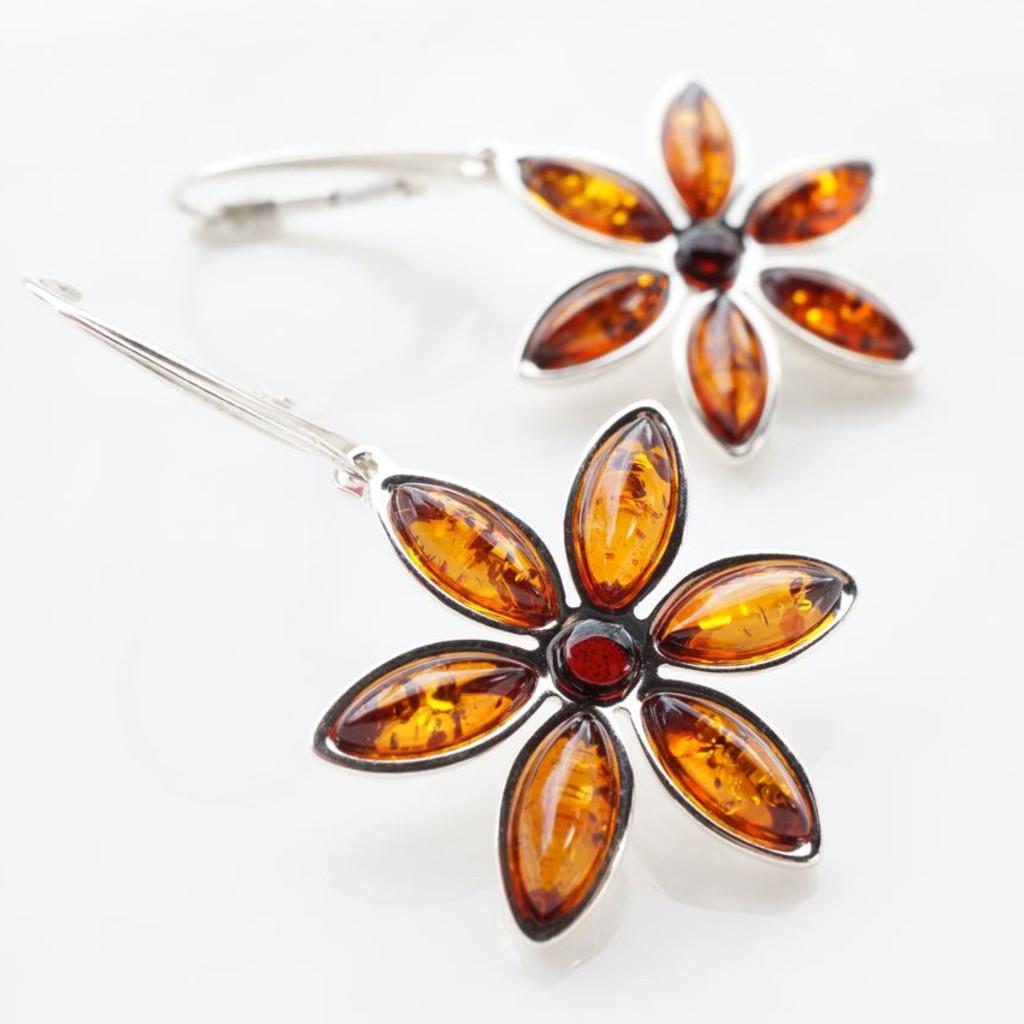earrings: (12, 276, 856, 949), (162, 77, 920, 467)
